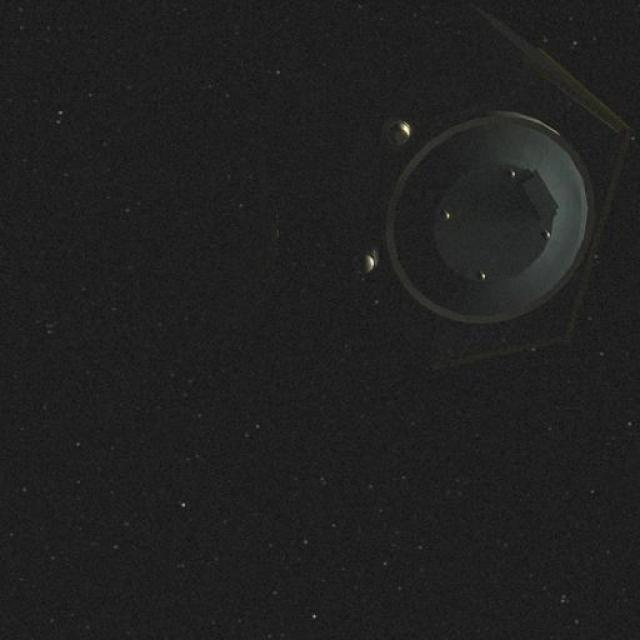cheops: (310, 15, 640, 370)
